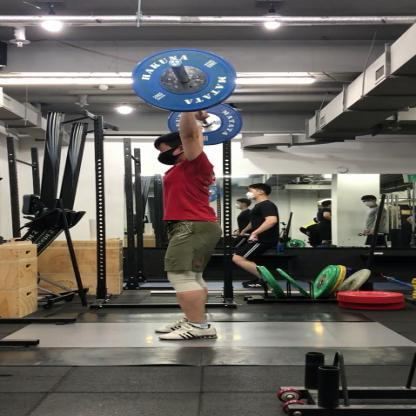Barbell: (167, 59, 187, 71)
